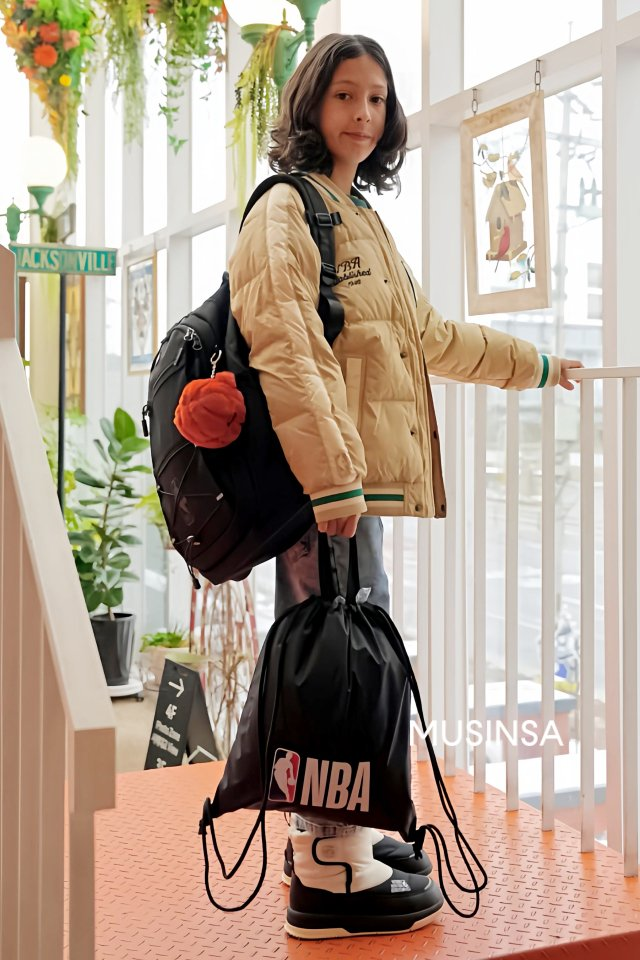Backpack: (140, 276, 321, 588)
Bag: (197, 589, 451, 839)
Outer: (239, 161, 561, 527)
Pants: (271, 510, 400, 855)
Shoes: (283, 829, 445, 948)
